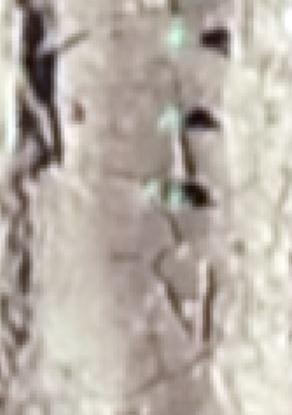cotton: (158, 185, 185, 209), (169, 22, 186, 47), (164, 109, 183, 130)
